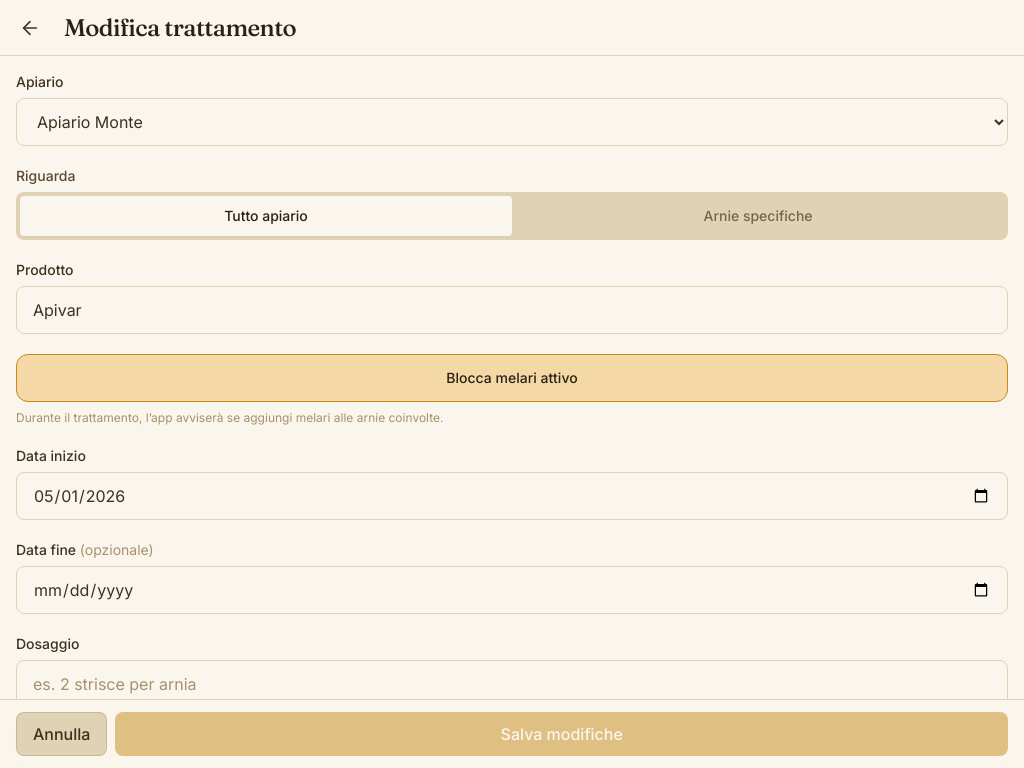
Test: TreatmentForm — save flow › enables save button in edit mode after making changes
This screenshot has width=1024, height=768.
Type " cambiato" into the field labelled "Prodotto" at [512, 310], box left=16, top=286, right=1008, bottom=334
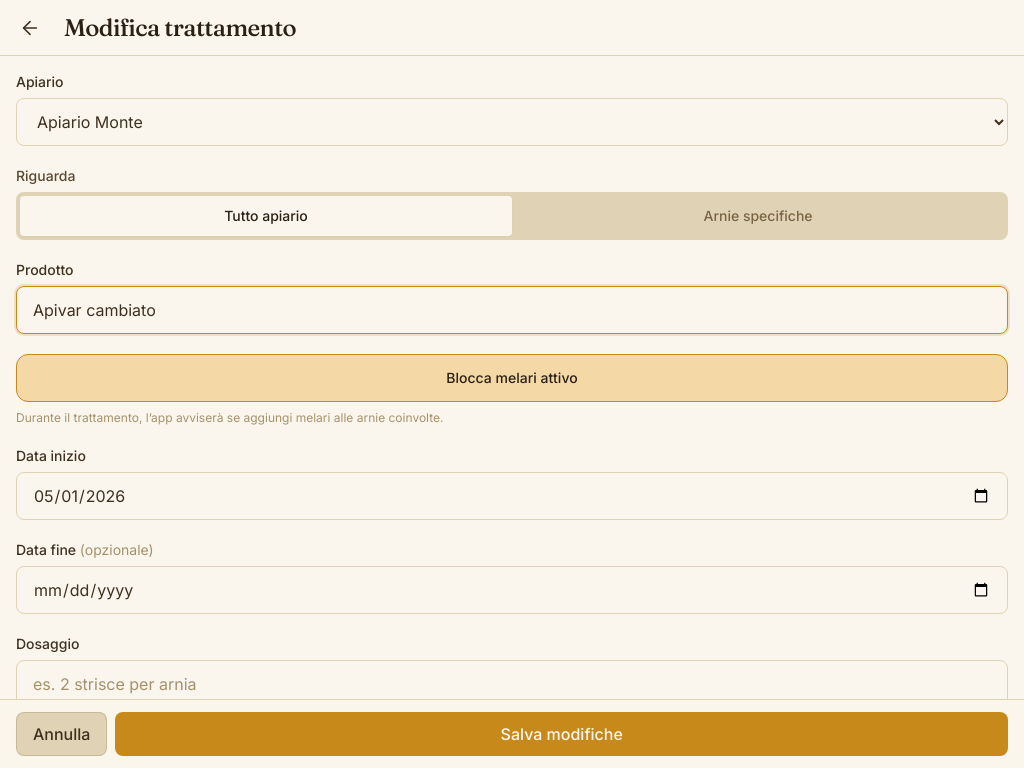
Check: the button "Salva modifiche" is enabled, box left=115, top=712, right=1008, bottom=756
